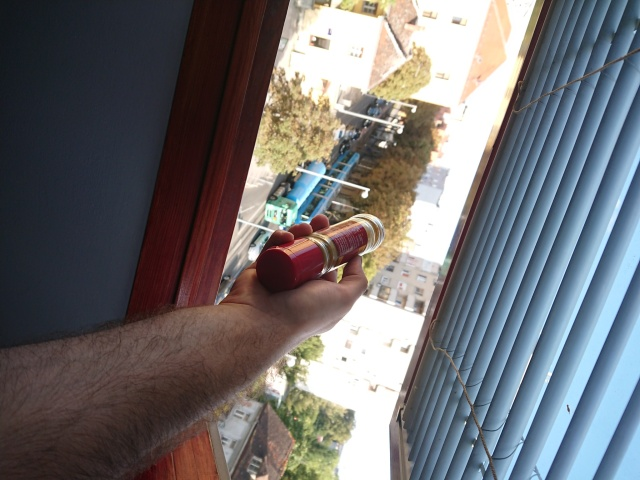Kotanyi Curry Spices Mix 70g: (254, 211, 387, 296)
